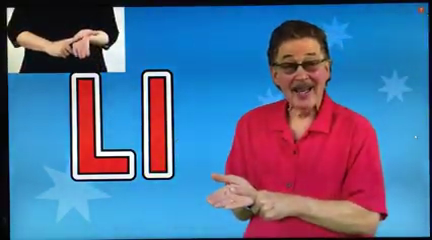L: (201, 165, 310, 226)
